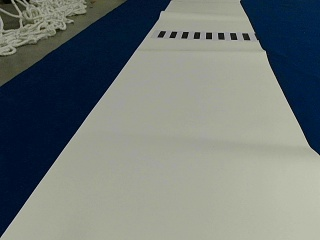crosswalk: (155, 30, 252, 40)
